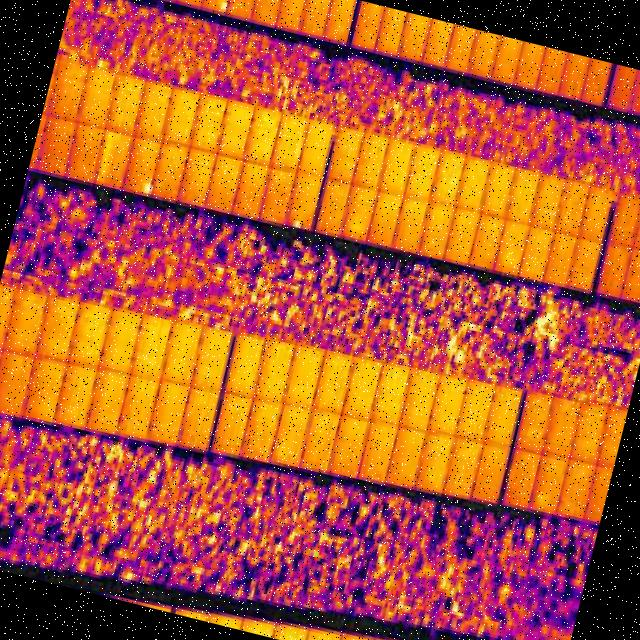Hotspot: (289, 216, 304, 232), (140, 179, 154, 194), (215, 0, 230, 12)
